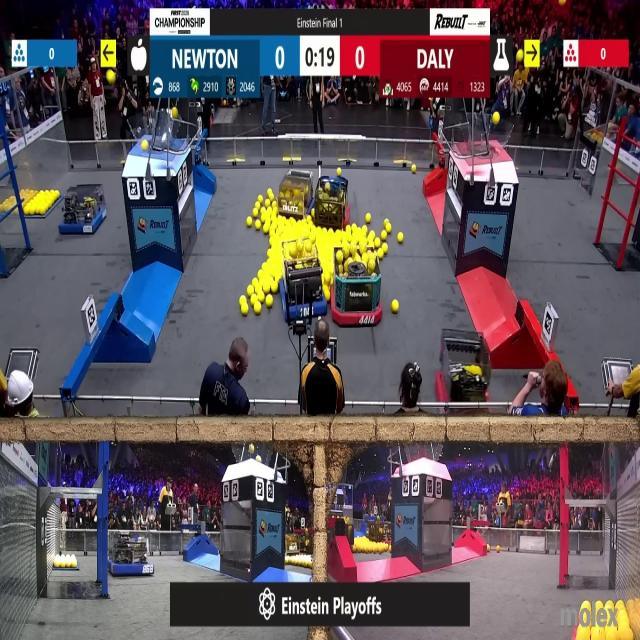ball_airborne: (107, 70, 116, 84), (517, 49, 525, 62), (493, 112, 500, 124), (142, 140, 148, 150), (249, 446, 254, 455), (256, 456, 260, 463)
ball_ground: (576, 626, 586, 638), (240, 305, 248, 317), (56, 557, 64, 569), (392, 300, 398, 314), (272, 281, 278, 294), (593, 626, 600, 637), (618, 600, 626, 609), (26, 203, 32, 215), (66, 557, 72, 569), (382, 244, 389, 254), (267, 294, 274, 304), (268, 188, 275, 198), (584, 600, 591, 610), (254, 304, 260, 315), (72, 558, 78, 569), (379, 248, 387, 256), (241, 295, 248, 304), (385, 219, 390, 231), (382, 232, 388, 242), (368, 232, 374, 242), (606, 600, 612, 610), (368, 239, 374, 249), (353, 541, 359, 551), (254, 208, 260, 217), (272, 224, 278, 233), (273, 272, 279, 281), (247, 216, 252, 226), (354, 537, 359, 547), (250, 295, 257, 302), (365, 214, 371, 222), (488, 544, 494, 552), (265, 264, 271, 272), (255, 220, 260, 229), (248, 286, 253, 295), (354, 248, 359, 257), (256, 295, 262, 302), (250, 281, 257, 287), (398, 234, 403, 242), (412, 166, 417, 174), (268, 249, 273, 257), (353, 224, 358, 232), (379, 542, 384, 550), (378, 240, 382, 249), (280, 216, 286, 222), (257, 193, 262, 200), (307, 217, 312, 224), (338, 168, 342, 176), (258, 272, 262, 280), (266, 224, 270, 232), (347, 224, 351, 232), (386, 542, 390, 550), (496, 544, 500, 551), (274, 202, 278, 209), (256, 201, 260, 208), (267, 201, 271, 208), (274, 208, 278, 215), (362, 225, 365, 231)
goal: (456, 114, 515, 158), (124, 112, 186, 152)
robot_blue: (281, 241, 327, 317), (57, 185, 106, 233), (106, 532, 150, 576), (276, 167, 312, 219), (282, 533, 310, 565)
robot_red: (438, 329, 492, 415), (330, 254, 382, 325), (313, 175, 349, 232)
